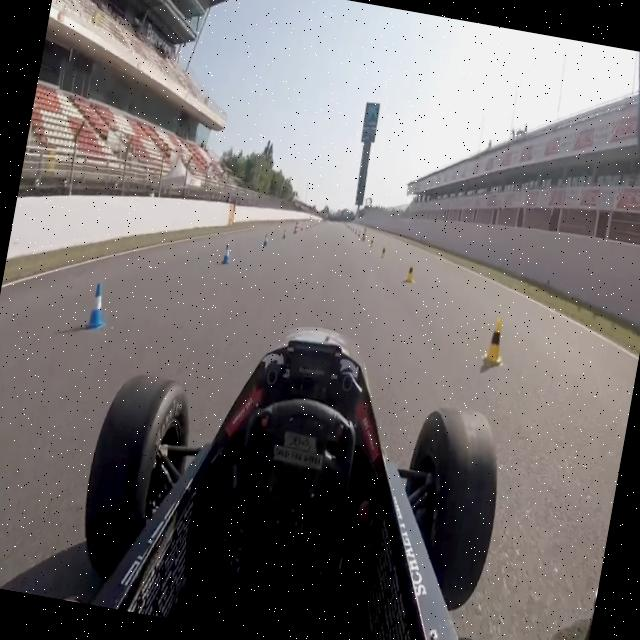blue_cone: (84, 280, 112, 332), (220, 242, 232, 266)
yellow_cone: (481, 316, 512, 368), (404, 260, 417, 282)
